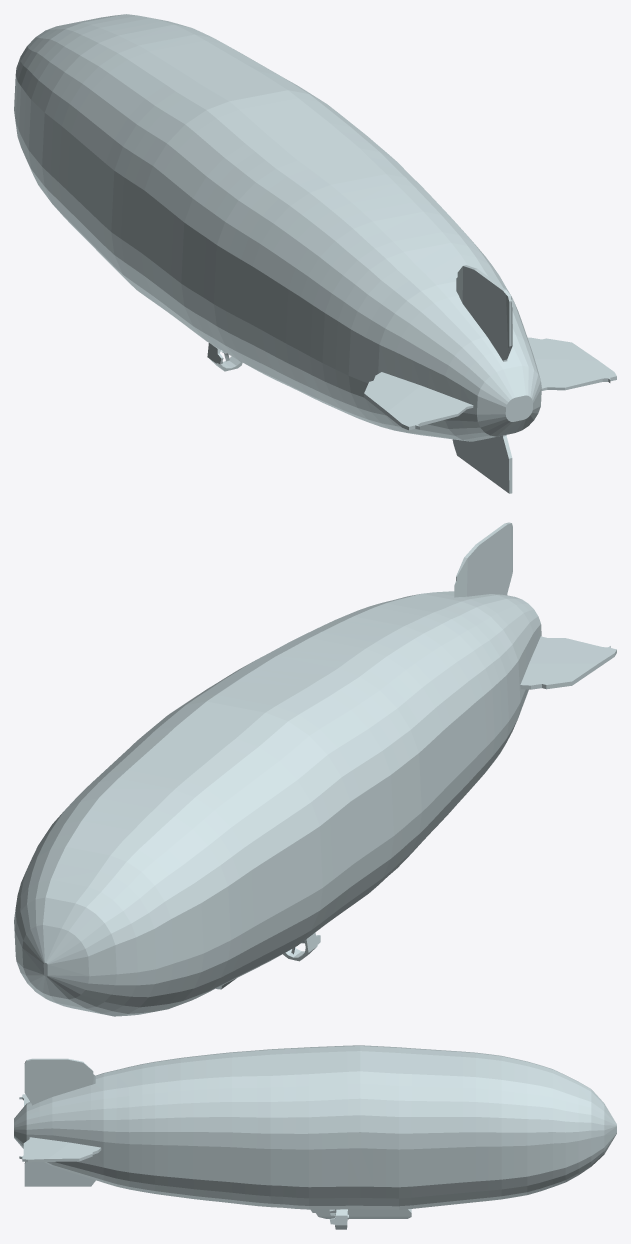
File: SHIP.glb
3 views of the same model, one above another, from view 1: azimuth 30°, elevation 25°; view 2: azimuth 150°, elevation 25°; view 3: azimuth 270°, elevation 25° (orthographic). The views are drawn at different scales.
Parts seen in each view (by area): view 1: Aircraft visual hull; view 2: Aircraft visual hull; view 3: Aircraft visual hull.
Part boxes in pixels (x1=…): Aircraft visual hull: x1=14, y1=14, x2=616, y2=493; Aircraft visual hull: x1=14, y1=522, x2=616, y2=1016; Aircraft visual hull: x1=14, y1=1045, x2=616, y2=1229.
Bounding box in the file's own units: 15.38 × 17.49 × 59.36.
